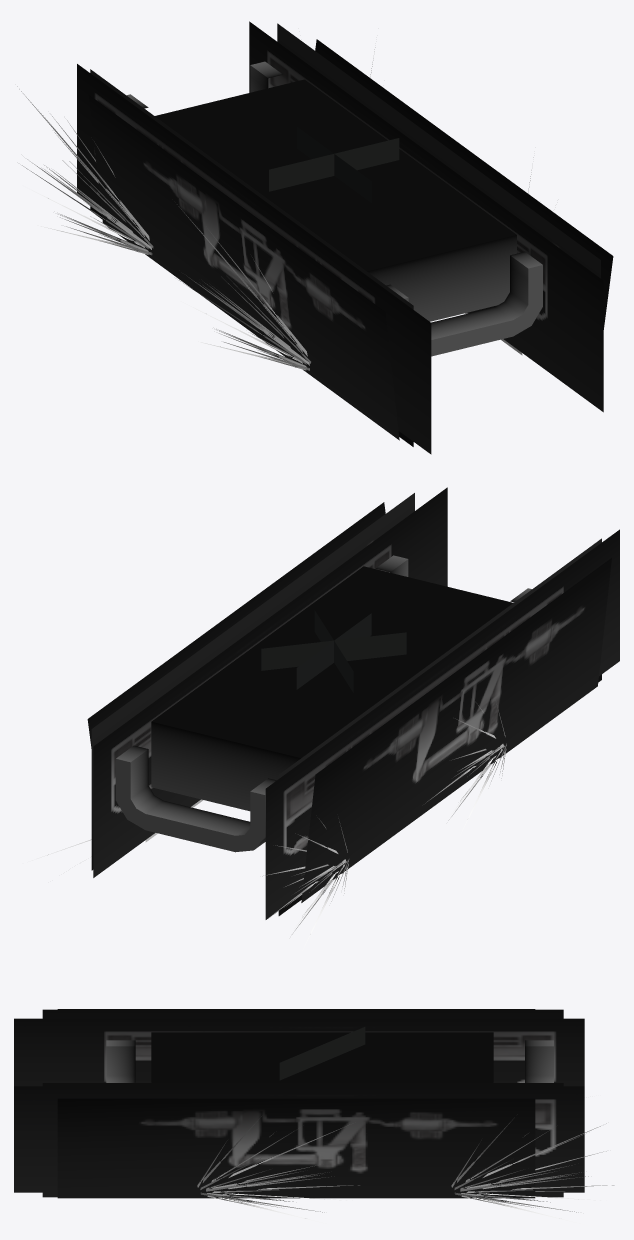
File: H2000_TRACK_LOWD4.glb
3 renders of one model, top to bottom at view 1: azimuth 30°, elevation 25°; view 2: azimuth 150°, elevation 25°; view 3: azimuth 270°, elevation 25°, orthographic. The views are drawn at different scales.
Parts seen in each view (by area): view 1: trackbase, FR1, FR0; view 2: trackbase, FR1, FR0; view 3: trackbase, FL1, FL0.
Boxes of the visible parts, box(x1,y1,x2,y2) form: trackbase: box(77, 21, 613, 454); FR1: box(17, 86, 153, 255); FR0: box(177, 204, 310, 370); trackbase: box(87, 487, 619, 919); FR1: box(262, 818, 349, 950); FR0: box(425, 704, 506, 834); trackbase: box(14, 1009, 584, 1198); FL1: box(451, 1114, 614, 1223); FL0: box(197, 1116, 359, 1223).
Bounding box in the file's own units: 6.84 × 3.05 × 13.
Materials: 27 (26 with a texture image).
